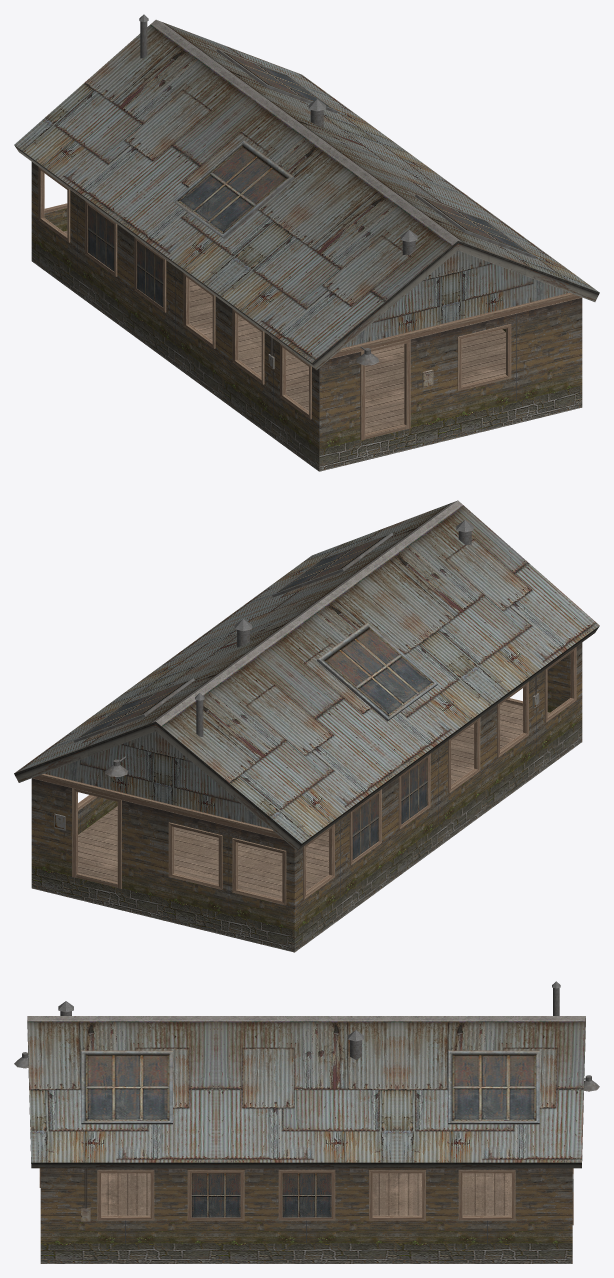
Rendered from MiniBR_Building002.fbx.
3 views of the same model, one above another, from view 1: azimuth 30°, elevation 25°; view 2: azimuth 150°, elevation 25°; view 3: azimuth 270°, elevation 25° (orthographic). The views are drawn at different scales.
Visible parts, largest first — view 1: MiniBR_Building002; view 2: MiniBR_Building002; view 3: MiniBR_Building002.
Part boxes in pixels (box(x1,y1,x2,y2)): MiniBR_Building002: box(14, 14, 599, 471); MiniBR_Building002: box(14, 500, 599, 952); MiniBR_Building002: box(14, 981, 599, 1263).
Bounding box in the file's own units: 759 × 1446 × 574.
